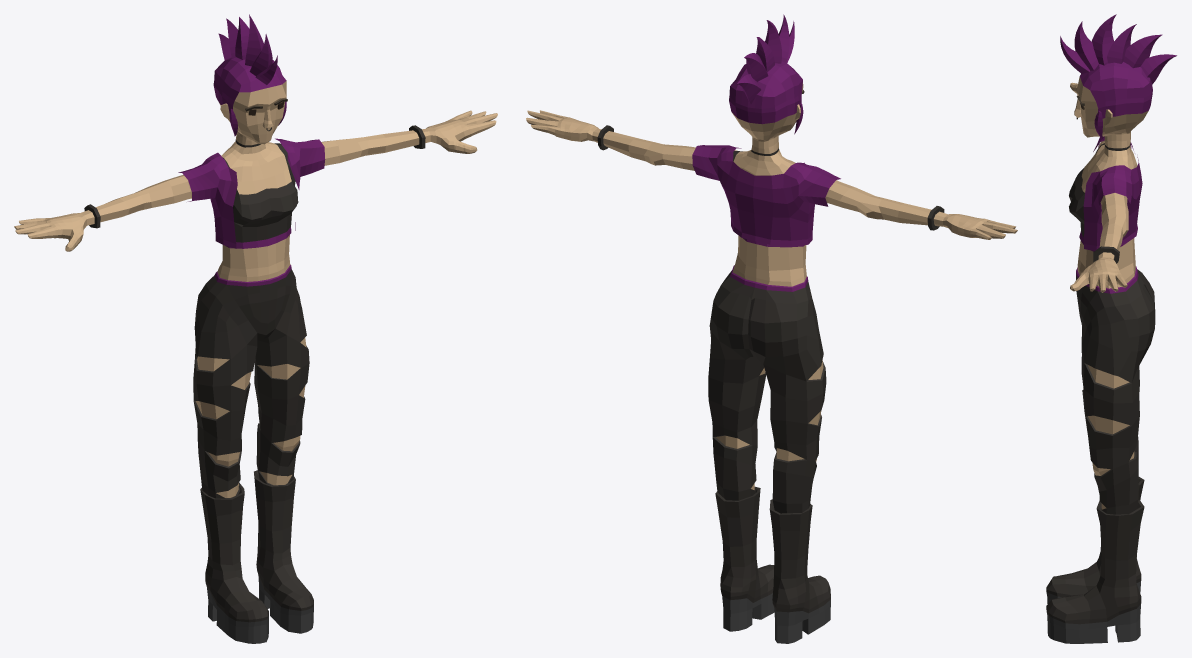
File: punk_(1).glb
The picture shows the model from 3 angles, left to right: view 1: azimuth 30°, elevation 25°; view 2: azimuth 150°, elevation 25°; view 3: azimuth 270°, elevation 25°; orthographic projection.
Parts seen in each view (by area): view 1: Punk_Legs_258bc5, Punk_Body_14622c, Punk_Feet_c72015, Punk_Body_e8165b, Punk_Head_9fccb7, Punk_Body_aae017, Punk_Feet_adf24b, Punk_Head_2a2d63, Punk_Legs_29d8c6; view 2: Punk_Legs_258bc5, Punk_Body_14622c, Punk_Body_e8165b, Punk_Feet_c72015, Punk_Head_9fccb7, Punk_Feet_adf24b, Punk_Head_2a2d63, Punk_Legs_29d8c6; view 3: Punk_Legs_258bc5, Punk_Feet_c72015, Punk_Head_9fccb7, Punk_Body_14622c, Punk_Body_e8165b, Punk_Feet_adf24b, Punk_Head_2a2d63, Punk_Legs_29d8c6, Punk_Body_aae017.
Part boxes in pixels (x1,y1,x2,y2): Punk_Legs_258bc5: (193, 269, 309, 498); Punk_Body_14622c: (14, 110, 497, 281); Punk_Feet_c72015: (200, 470, 313, 622); Punk_Body_e8165b: (178, 138, 325, 286); Punk_Head_9fccb7: (213, 14, 286, 136); Punk_Body_aae017: (84, 125, 425, 242); Punk_Feet_adf24b: (206, 576, 313, 643); Punk_Head_2a2d63: (219, 81, 286, 145); Punk_Legs_29d8c6: (195, 337, 306, 497); Punk_Legs_258bc5: (708, 270, 826, 513); Punk_Body_14622c: (526, 110, 1017, 286); Punk_Body_e8165b: (692, 145, 840, 291); Punk_Feet_c72015: (715, 486, 830, 613); Punk_Head_9fccb7: (729, 14, 803, 134); Punk_Feet_adf24b: (722, 593, 830, 643); Punk_Head_2a2d63: (732, 83, 803, 153); Punk_Legs_29d8c6: (716, 360, 823, 489); Punk_Legs_258bc5: (1076, 269, 1155, 514); Punk_Feet_c72015: (1046, 477, 1144, 624); Punk_Head_9fccb7: (1060, 14, 1176, 139); Punk_Body_14622c: (1070, 82, 1137, 292); Punk_Body_e8165b: (1076, 136, 1142, 293); Punk_Feet_adf24b: (1046, 581, 1140, 643); Punk_Head_2a2d63: (1074, 77, 1148, 148); Punk_Legs_29d8c6: (1083, 365, 1134, 509); Punk_Body_aae017: (1069, 143, 1119, 263).
Size of the model in its own units: 1.65 by 1.96 by 0.383.
